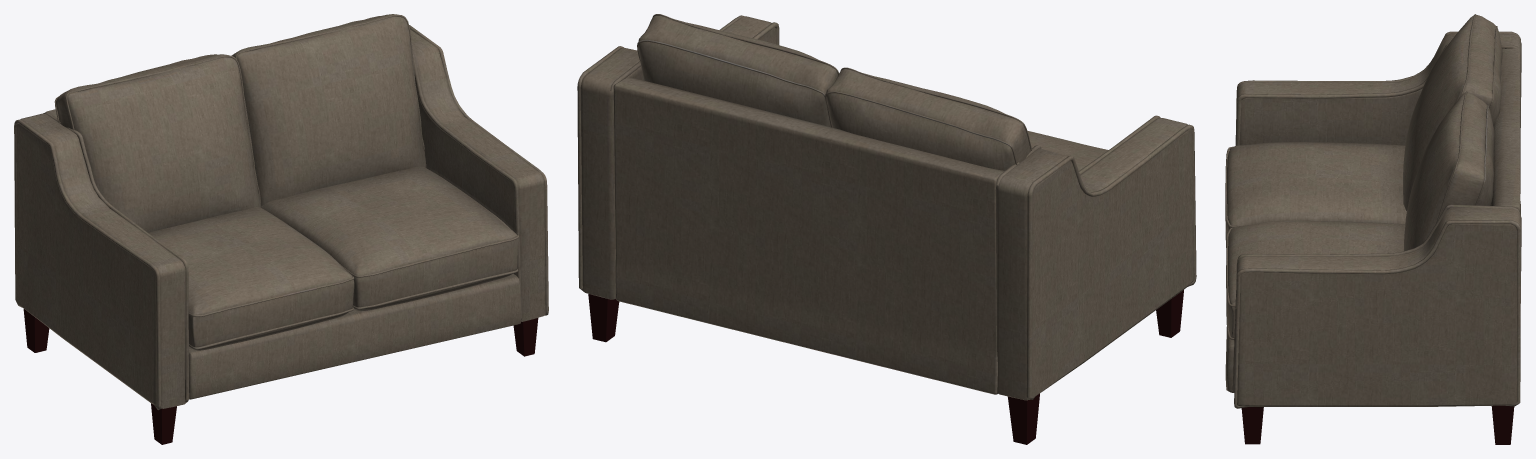
File: sofa_B07HZ5RT3Y.glb
3 renders of one model, left to right at view 1: azimuth 30°, elevation 25°; view 2: azimuth 150°, elevation 25°; view 3: azimuth 270°, elevation 25°, orthographic. The views are drawn at different scales.
Parts seen in each view (by area): view 1: RootNode; view 2: RootNode; view 3: RootNode.
Part boxes in pixels (x1,y1,x2,y2): RootNode: [14, 14, 548, 444]; RootNode: [577, 14, 1196, 444]; RootNode: [1225, 14, 1521, 444].
Size of the model in its own units: 1.5 by 0.9807 by 0.9854.
1 material, 1 textured.
